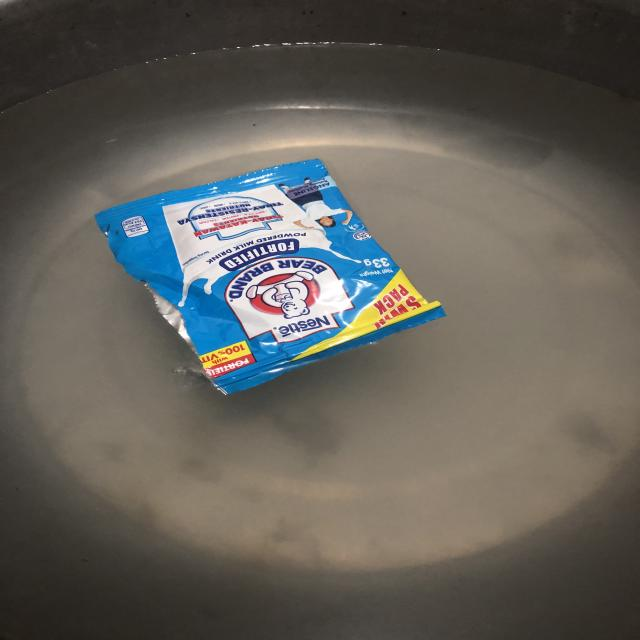Plastic Wrapper: (78, 146, 476, 414)
